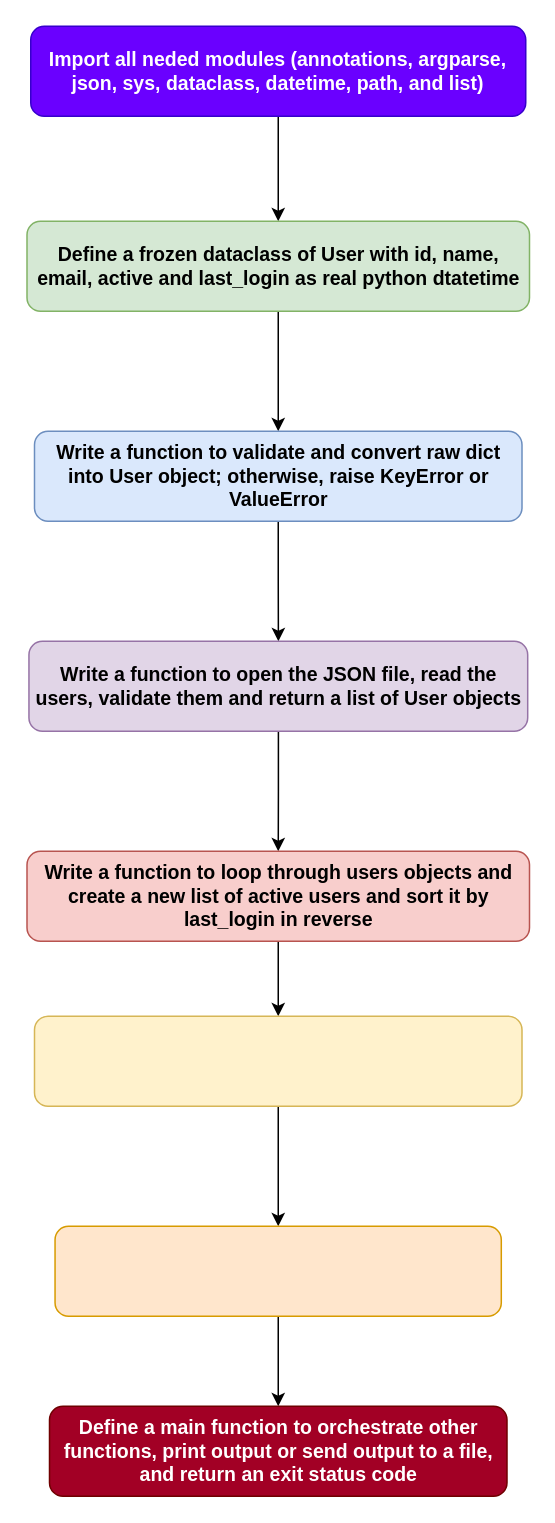
The diagram is 555 pixels wide and 1523 high, and some of its shapes have lost their labels. The shapes that lost their labels are listed below. From the top down, each one's box as (x1, y1, x2, y2) in pixels, then its label:
(33, 1015, 522, 1106): Write a function that converts User objects to JSON-serializable dicts.
(54, 1225, 501, 1316): Define a function for CLI input & output setting and return argparse Namespace
